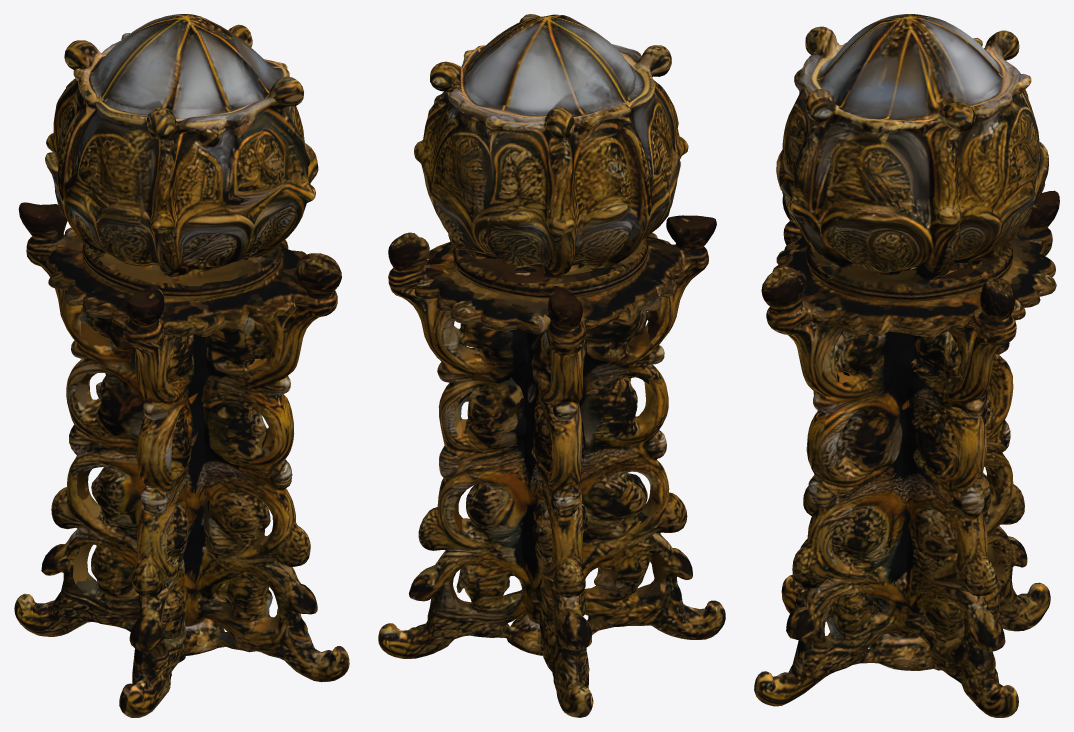
3 views of the same model, side by side, from view 1: azimuth 30°, elevation 25°; view 2: azimuth 150°, elevation 25°; view 3: azimuth 270°, elevation 25° (orthographic). The views are drawn at different scales.
Parts seen in each view (by area): view 1: textured_mesh; view 2: textured_mesh; view 3: textured_mesh.
Part boxes in pixels (x1=…): textured_mesh: x1=14, y1=14, x2=349, y2=717; textured_mesh: x1=378, y1=14, x2=725, y2=717; textured_mesh: x1=754, y1=14, x2=1059, y2=717.
Size of the model in its own units: 0.7895 by 1.99 by 0.847.
Materials: 1 (1 with a texture image).
